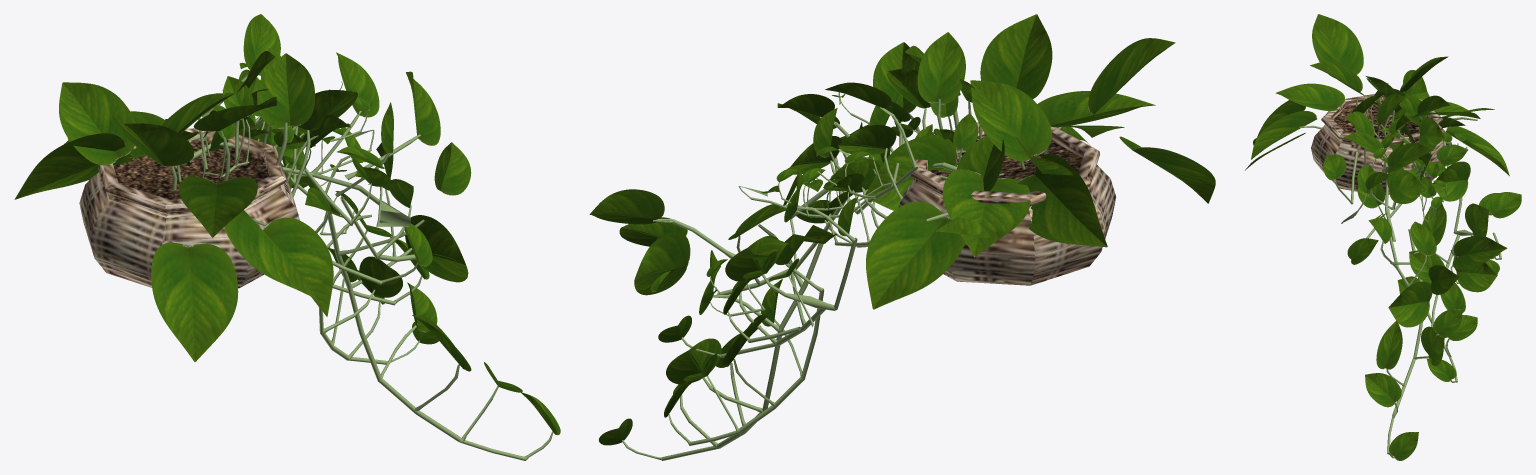
File: Hanging plant_no hanger.fbx
The picture shows the model from 3 angles, left to right: view 1: azimuth 30°, elevation 25°; view 2: azimuth 150°, elevation 25°; view 3: azimuth 270°, elevation 25°; orthographic projection. The views are drawn at different scales.
Parts seen in each view (by area): view 1: group1_pasted__Model_pasted__Hanging_Philodendron_2_1_pasted; view 2: group1_pasted__Model_pasted__Hanging_Philodendron_2_1_pasted; view 3: group1_pasted__Model_pasted__Hanging_Philodendron_2_1_pasted.
Boxes of the visible parts, box(x1,y1,x2,y2) form: group1_pasted__Model_pasted__Hanging_Philodendron_2_1_pasted: box(14, 14, 560, 460); group1_pasted__Model_pasted__Hanging_Philodendron_2_1_pasted: box(589, 14, 1215, 460); group1_pasted__Model_pasted__Hanging_Philodendron_2_1_pasted: box(1245, 14, 1521, 460).
Bounding box in the file's own units: 55.46 × 49.41 × 41.09.
